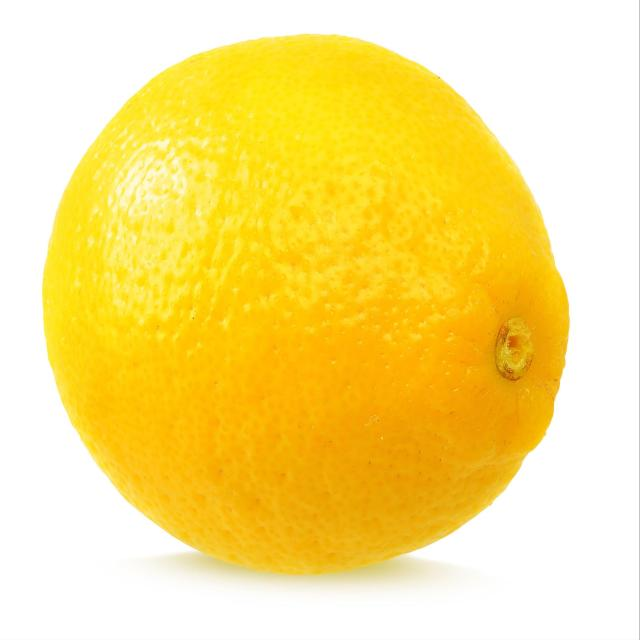lemon: (32, 22, 580, 586)
